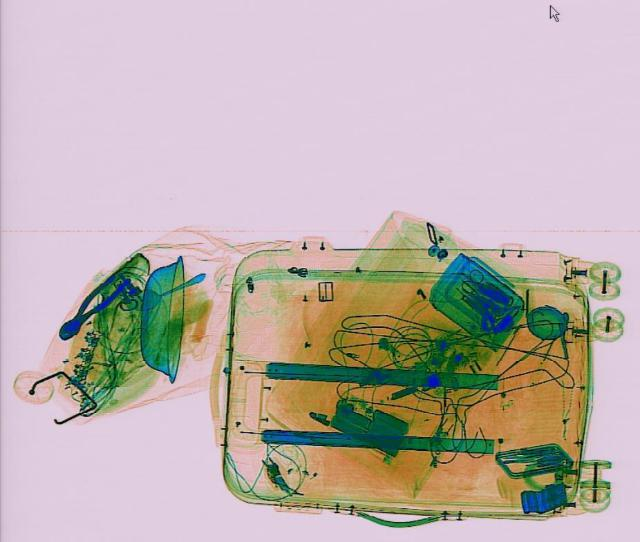Pliers: (48, 266, 134, 342)
Scissors: (455, 266, 507, 304)
